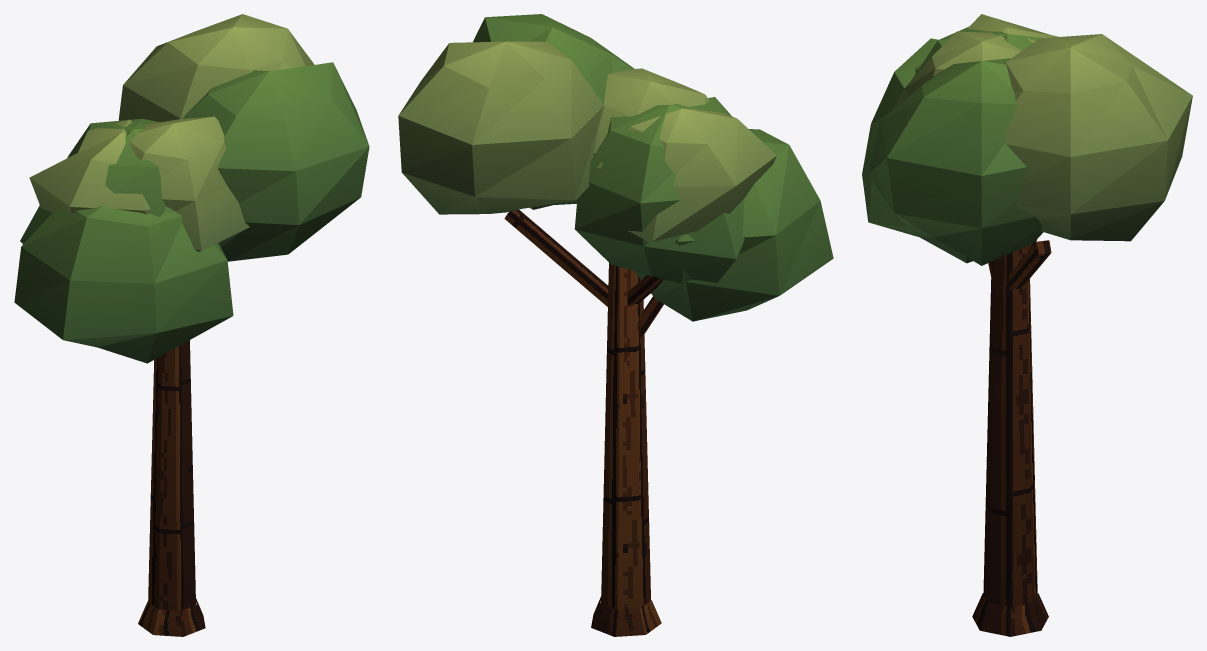
The model's file is birch_3_lowpoly.glb.
3 renders of one model, left to right at view 1: azimuth 30°, elevation 25°; view 2: azimuth 150°, elevation 25°; view 3: azimuth 270°, elevation 25°, orthographic. The views are drawn at different scales.
Visible parts, largest first — view 1: birch_3_lowpoly; view 2: birch_3_lowpoly; view 3: birch_3_lowpoly.
Part boxes in pixels (box(x1,y1,x2,y2)): birch_3_lowpoly: box(14, 14, 369, 636); birch_3_lowpoly: box(398, 14, 833, 636); birch_3_lowpoly: box(862, 14, 1192, 636).
Size of the model in its own units: 3.88 by 6.26 by 3.03.
Materials: 2 (1 with a texture image).
